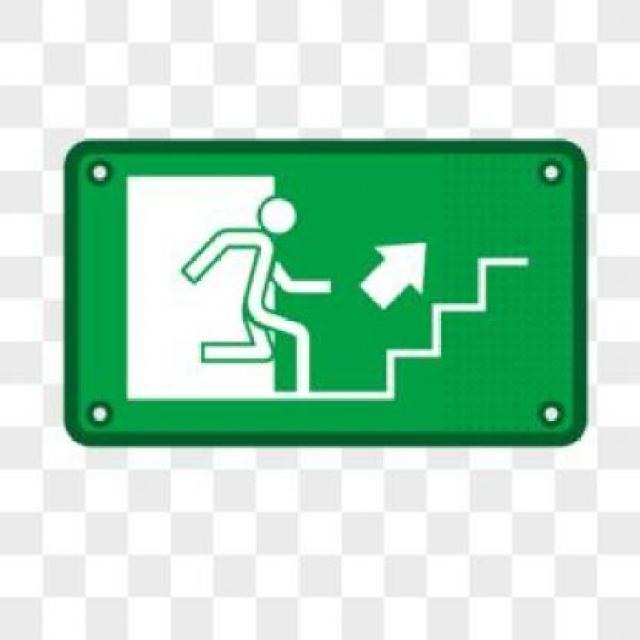exit_sign: (49, 120, 599, 452)
